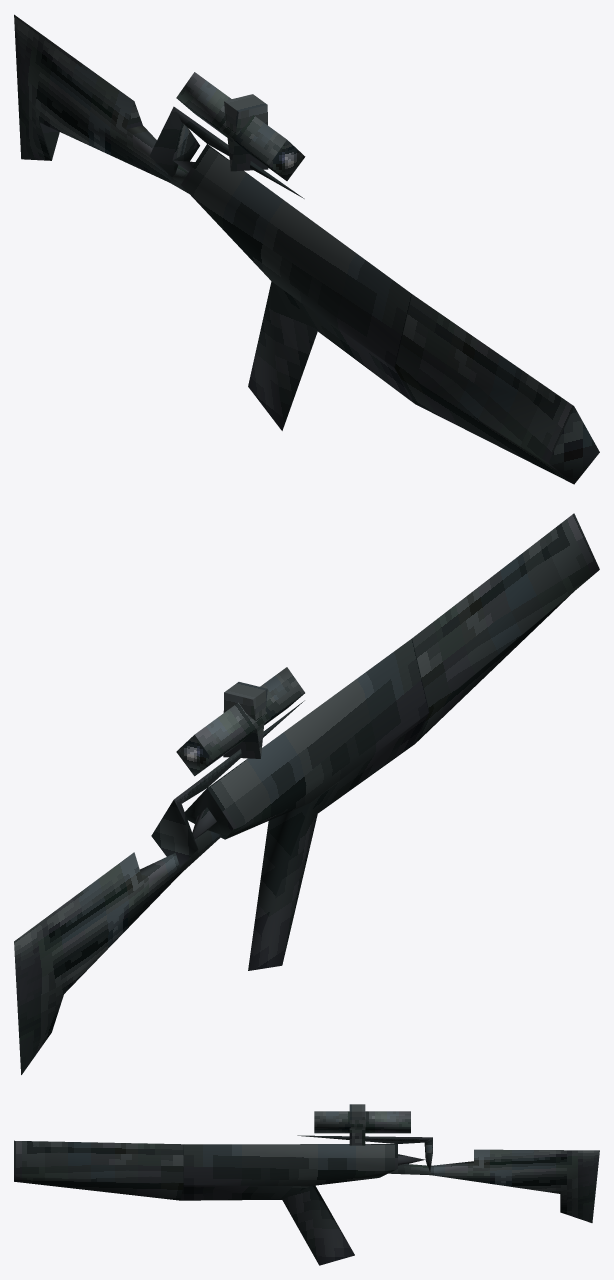
Rendered from wp_carbine_elite_combined_l2.fbx.
3 renders of one model, top to bottom at view 1: azimuth 30°, elevation 25°; view 2: azimuth 150°, elevation 25°; view 3: azimuth 270°, elevation 25°, orthographic. The views are drawn at different scales.
Visible parts, largest first — view 1: mesh_node; view 2: mesh_node; view 3: mesh_node.
Part boxes in pixels (x1,y1,x2,y2): mesh_node: (14, 14, 599, 484); mesh_node: (14, 513, 599, 1074); mesh_node: (14, 1104, 599, 1265).
Size of the model in its own units: 0.0358 by 0.196 by 0.6596.
